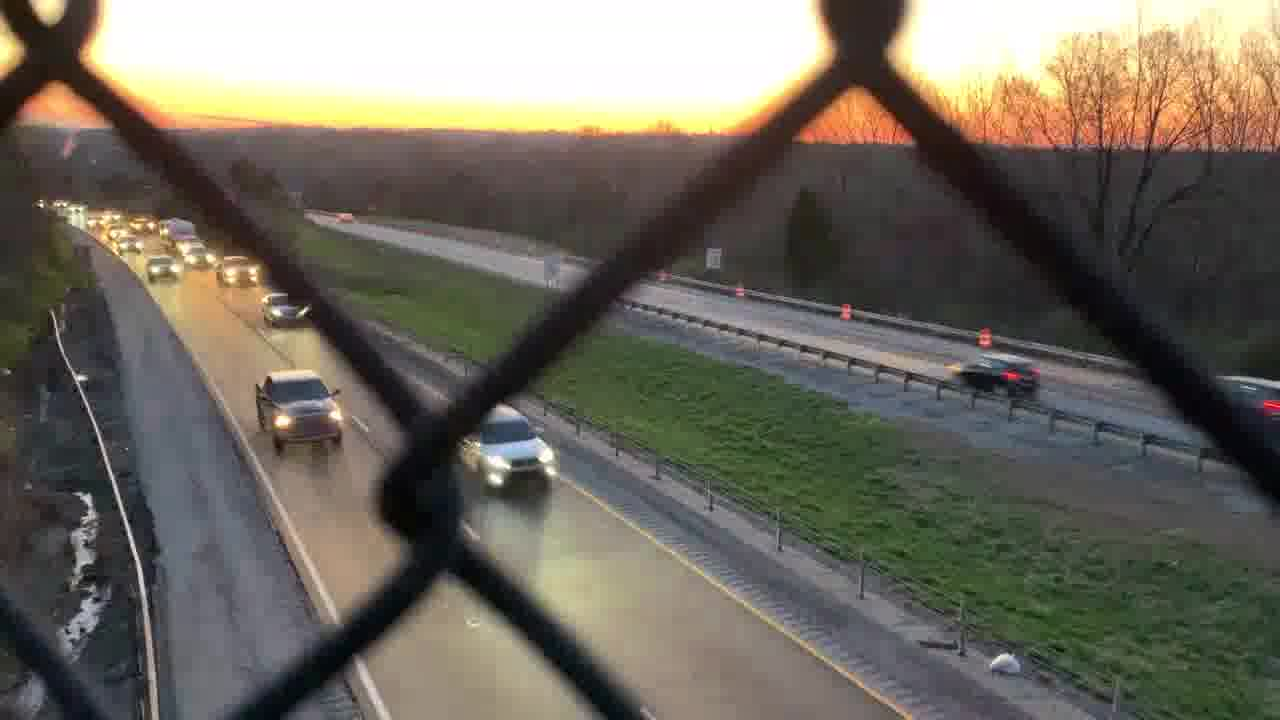lightTruck: (251, 373, 364, 457), (215, 255, 263, 287)
smallCar: (949, 352, 1044, 398), (259, 292, 307, 331)
